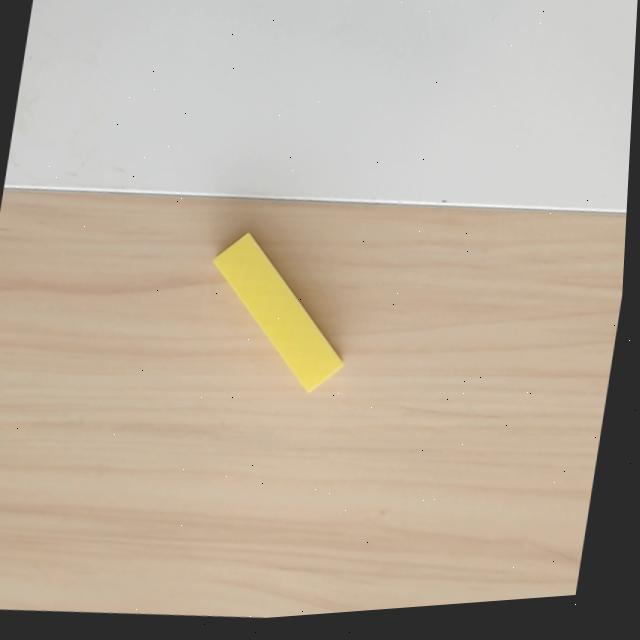Balok-Kuning-1002525: (209, 230, 345, 393)
